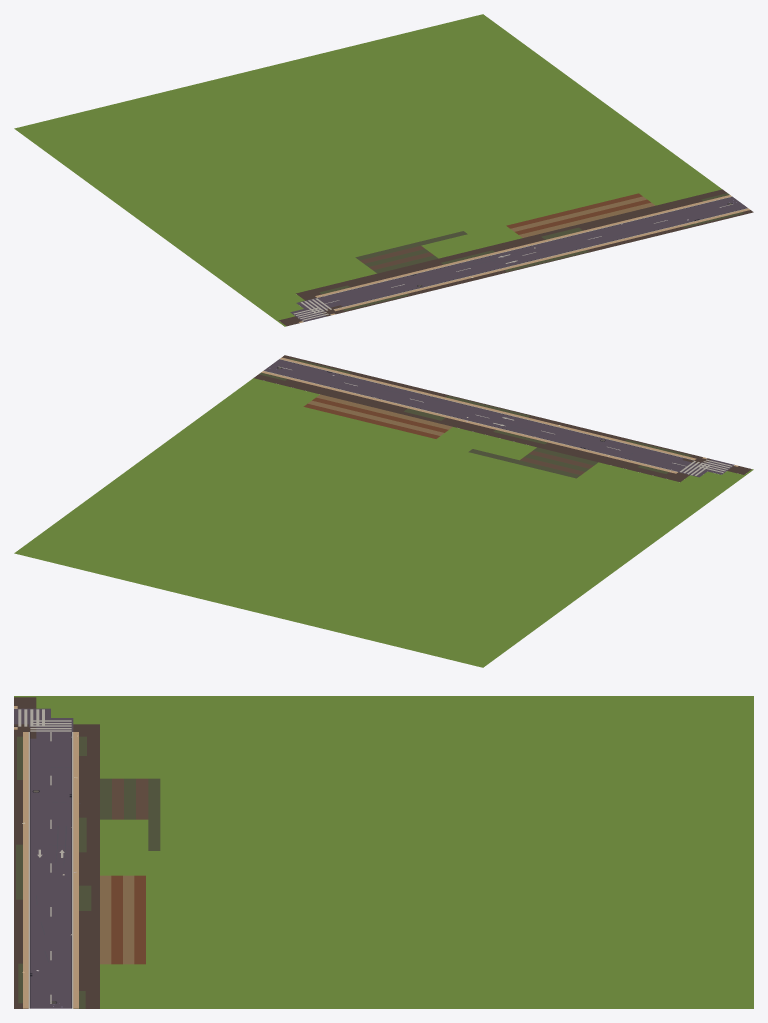
File: cure-23-1.glb
3 renders of one model, top to bottom at view 1: azimuth 30°, elevation 25°; view 2: azimuth 150°, elevation 25°; view 3: azimuth 270°, elevation 25°, orthographic. The views are drawn at different scales.
Visible parts, largest first — view 1: cure-23-1; view 2: cure-23-1; view 3: cure-23-1.
Boxes of the visible parts, x1,y1,x2,y2 form: cure-23-1: [14, 14, 753, 326]; cure-23-1: [14, 355, 753, 667]; cure-23-1: [14, 696, 753, 1008].
Bounding box in the file's own units: 100 × 0.017 × 100.
